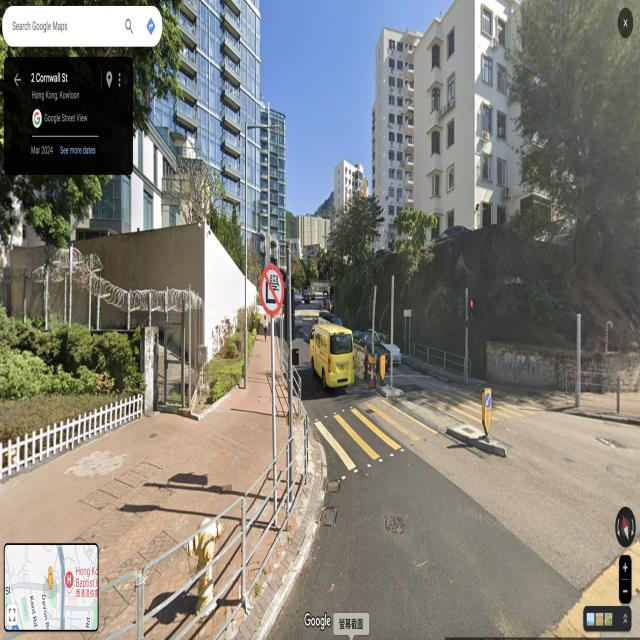Order-Sign: (260, 265, 285, 313), (486, 395, 491, 408)
